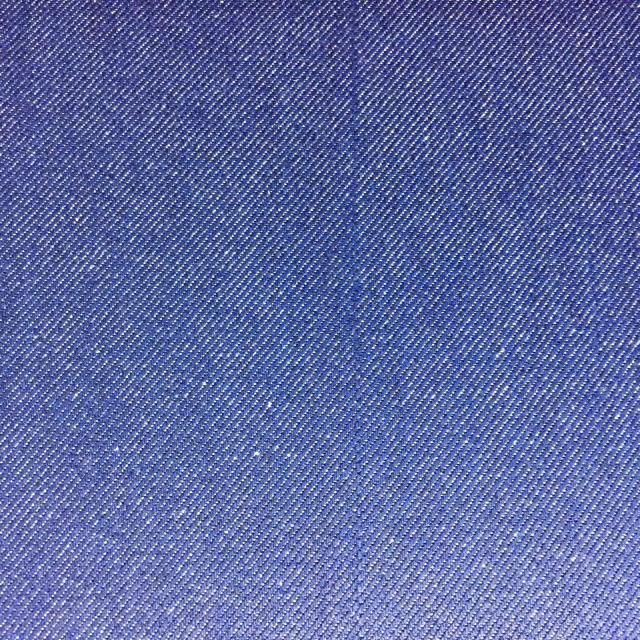Line: (343, 3, 378, 637)
